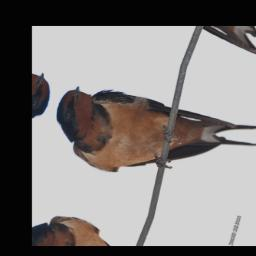Swallow: (44, 55, 256, 221)
